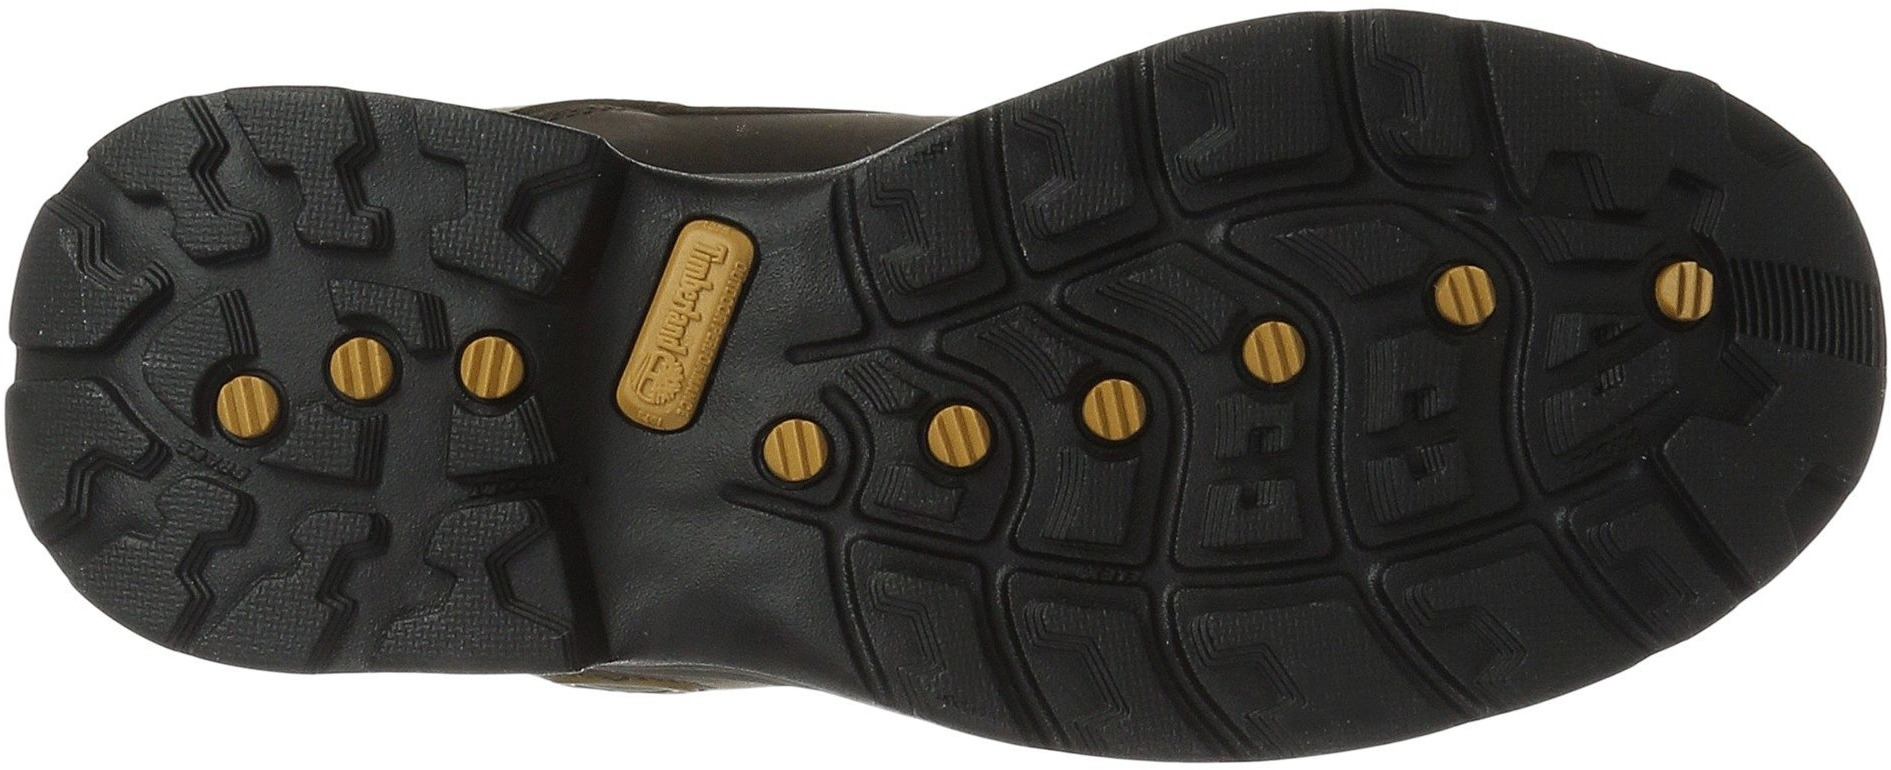bowtie: (367, 488, 572, 671)
chevron: (1307, 337, 1522, 539), (1015, 582, 1189, 751)
circle: (447, 322, 541, 414), (1419, 258, 1509, 338), (1645, 253, 1726, 336)
exclude: (415, 0, 988, 182), (513, 659, 882, 769)
other: (1747, 232, 1872, 375)
